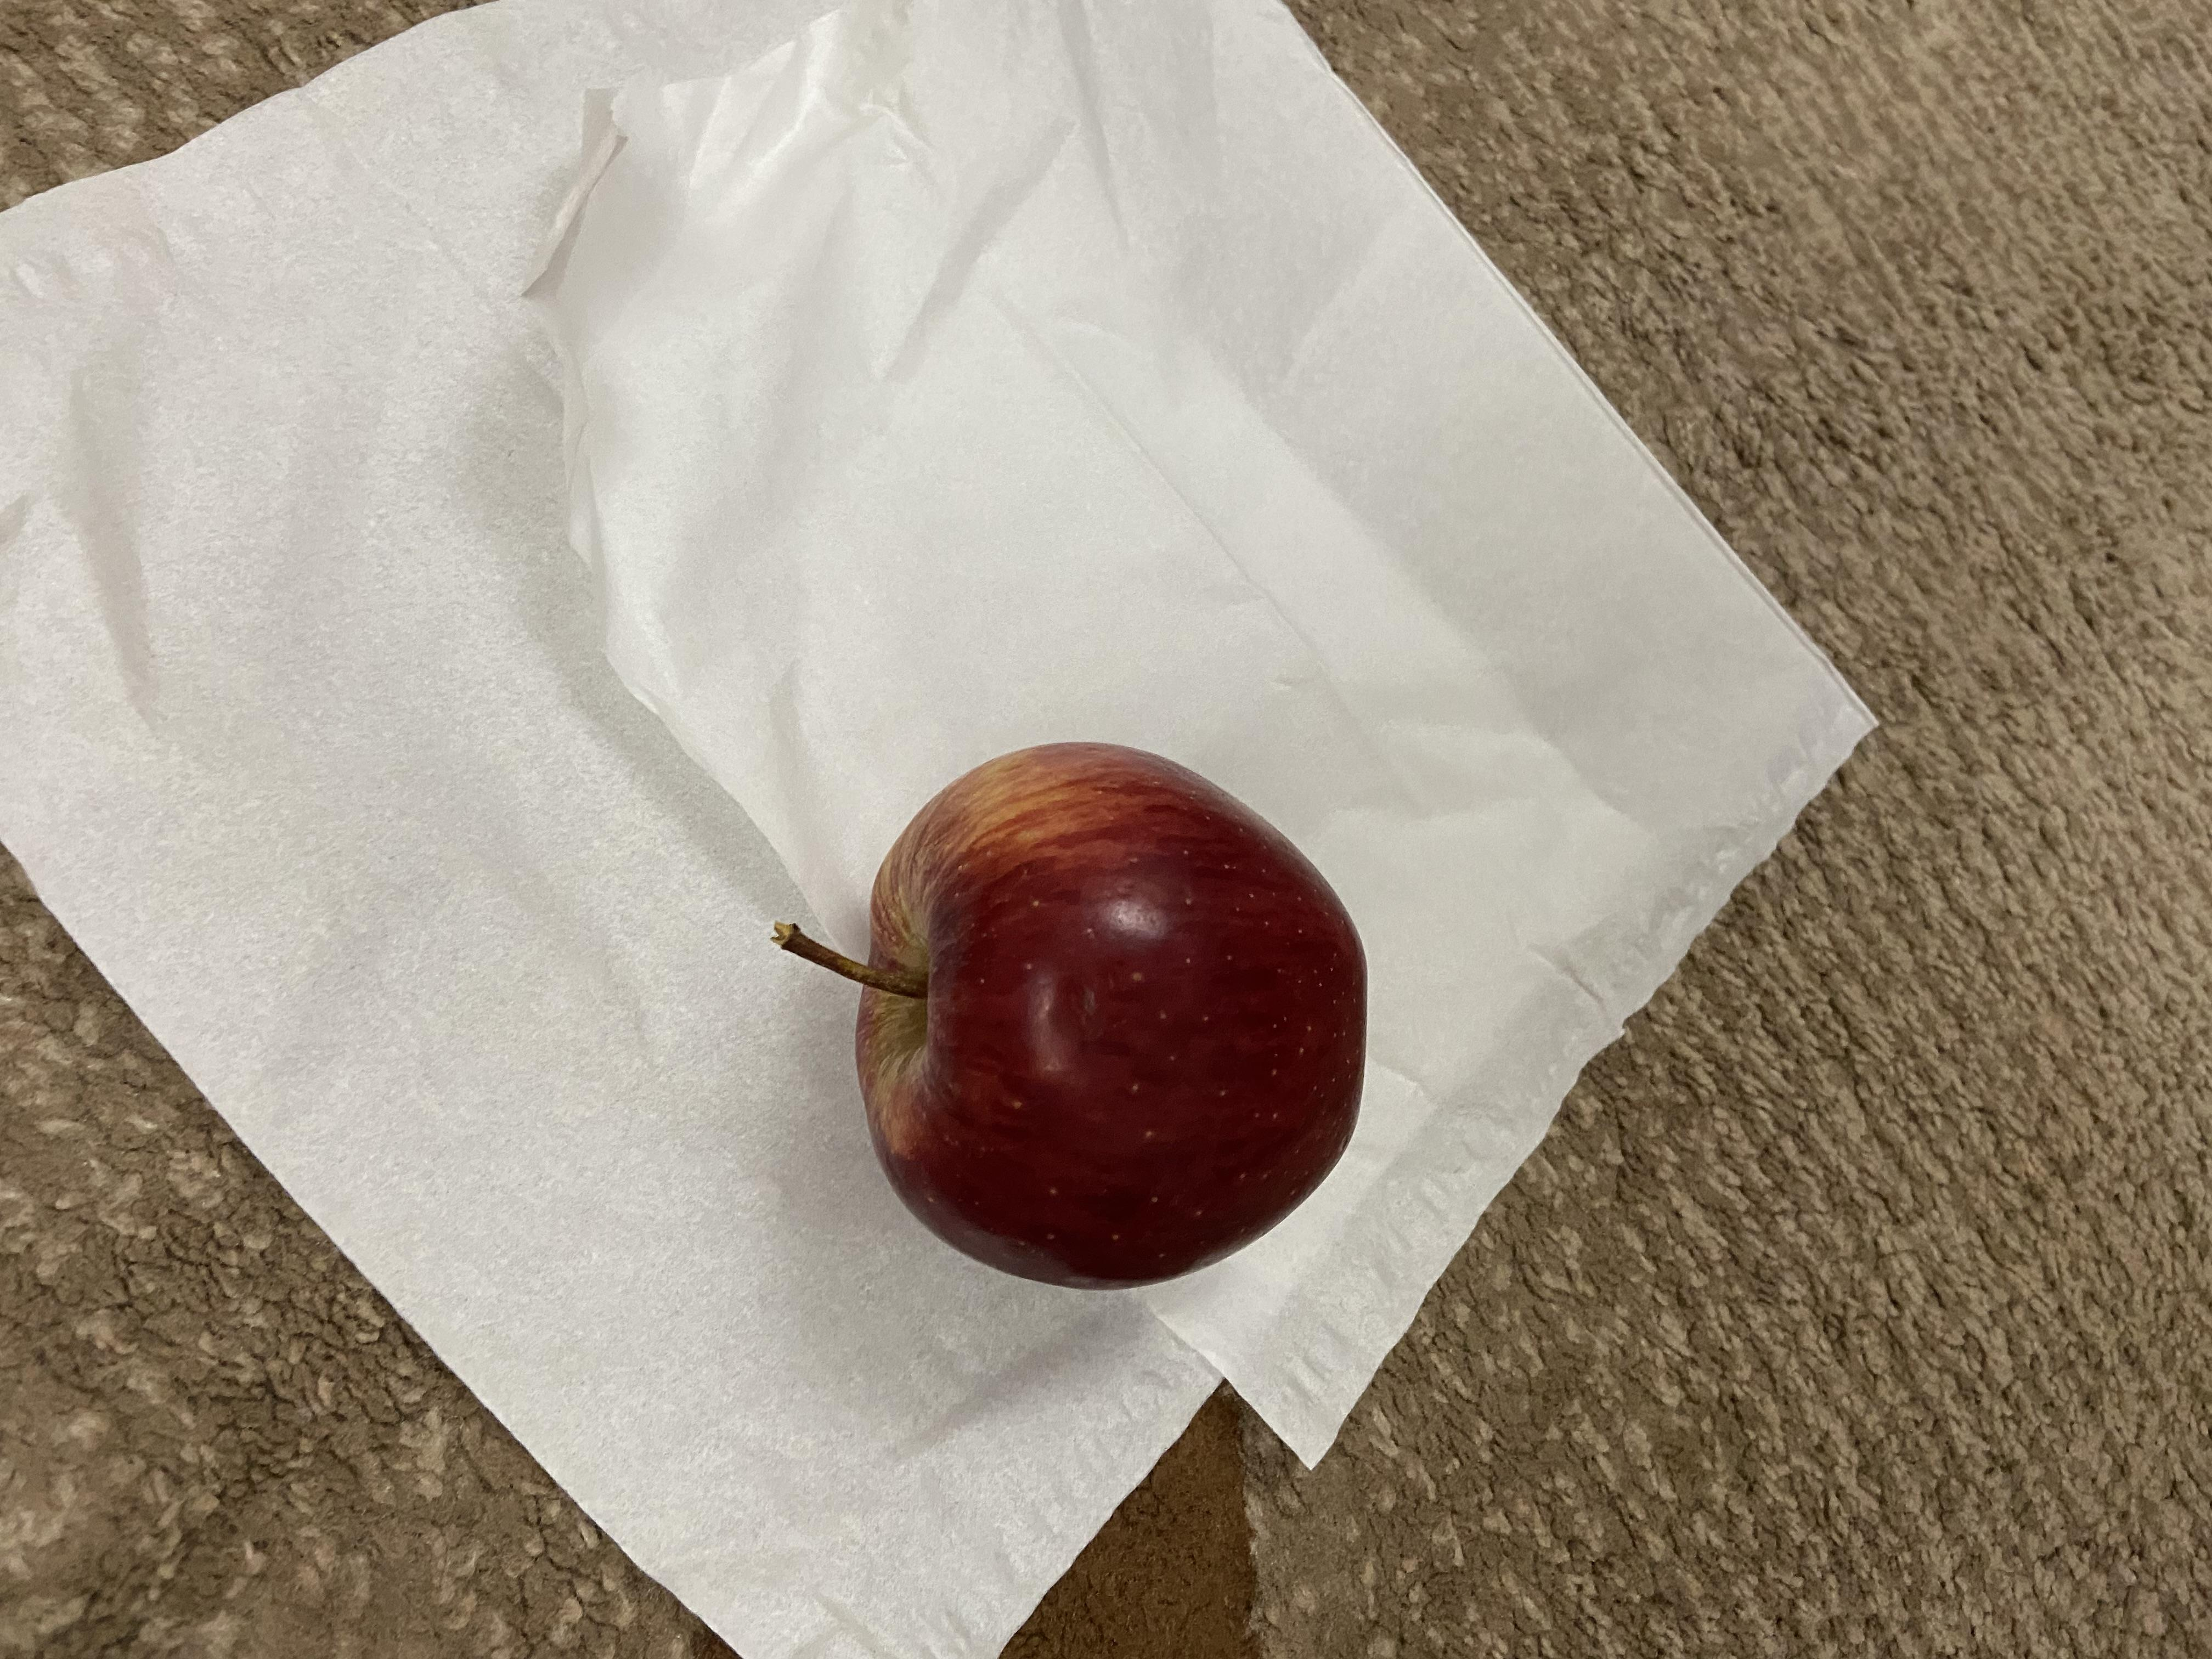Apple: (486, 547, 1245, 1040)
